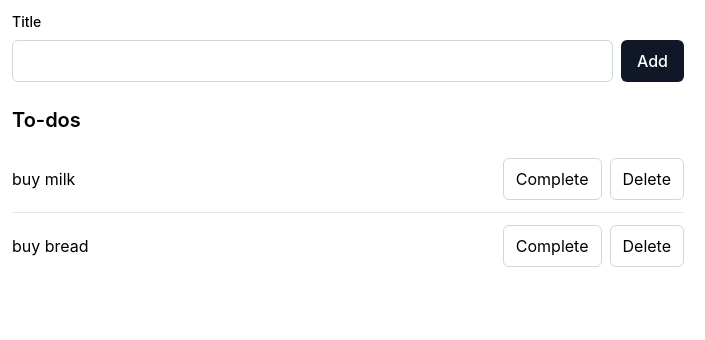
Test: TodoItem › shows the row error and re-enables controls after Delete server failure
Step 1. Click the button with aria-label "Delete buy milk" → (647, 179), box [610,158,684,200]
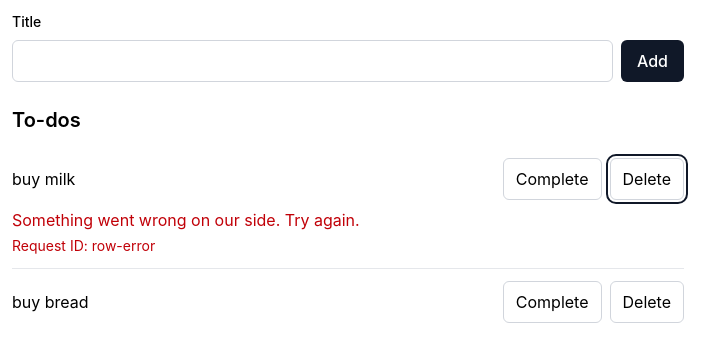
Expected: the message does not show "Private diagnostic detail", [12,210,360,254]
Result: the message shows "Something went wrong on our side. Try again." at [12,210,360,230]
Result: the message shows "Request ID: row-error" at [12,210,360,254]
